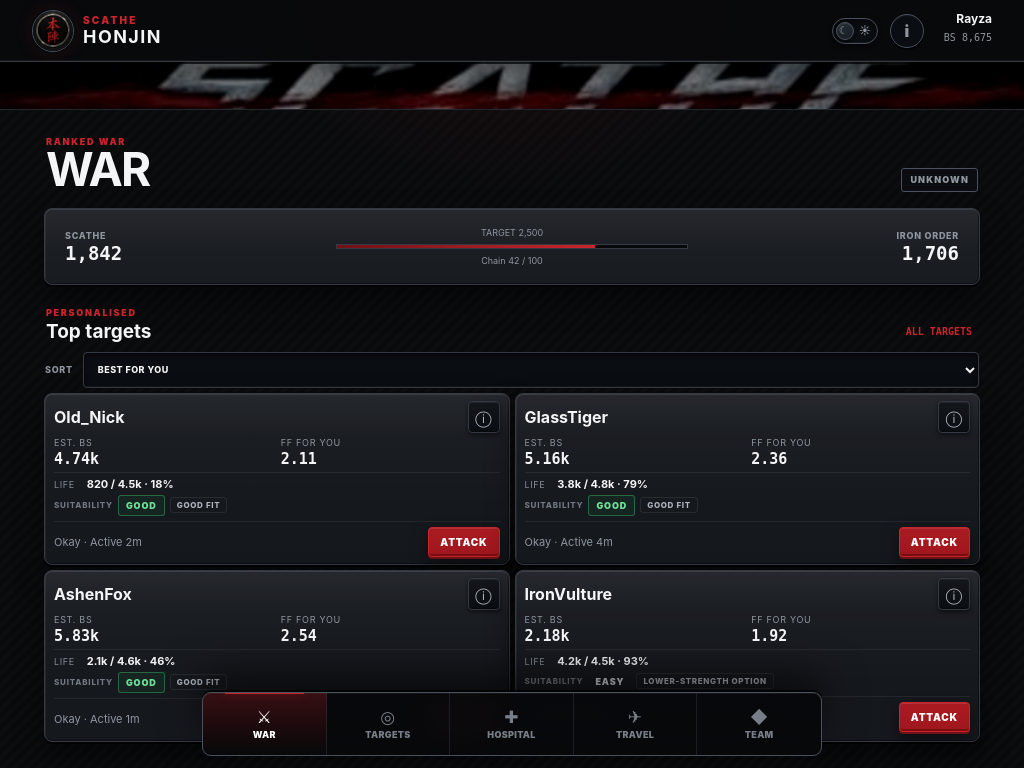
Observed activity player detail › shows the explicit sparse-data state when no cell meets the three-known-sample rule
Click the button with aria-label "Player details for Old_Nick": x=89, y=417 top-left (54, 401), bottom-right (124, 433)
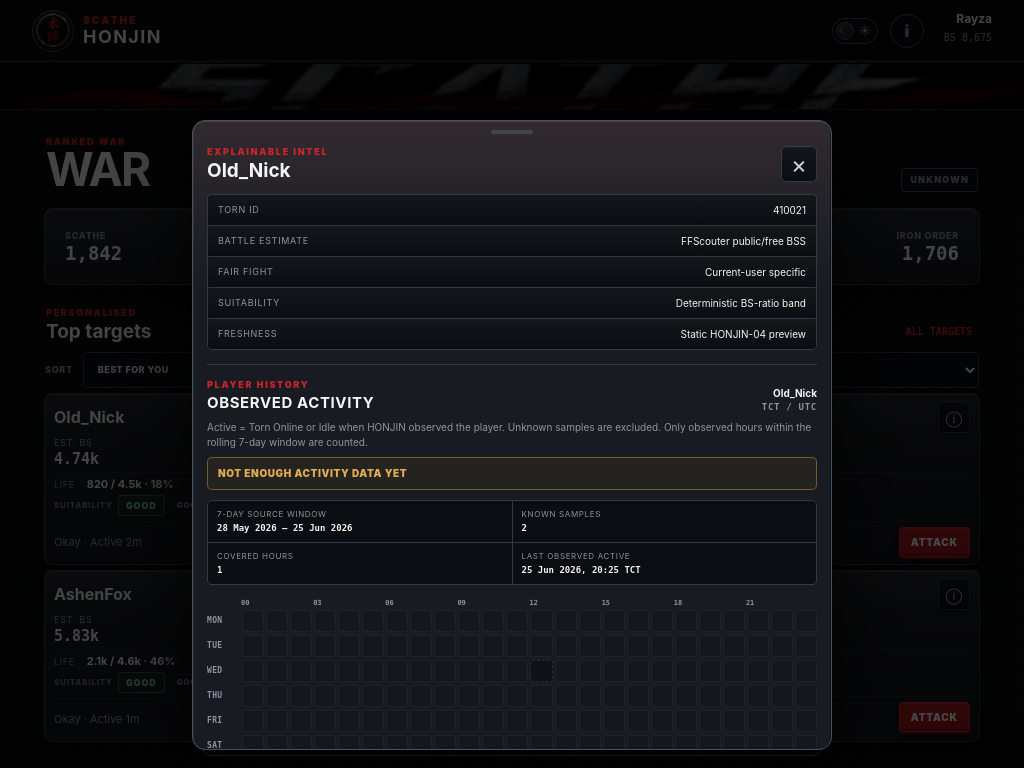
Check: the text "NOT ENOUGH ACTIVITY DATA YET" is shown, box top-left (207, 457), bottom-right (817, 490)
